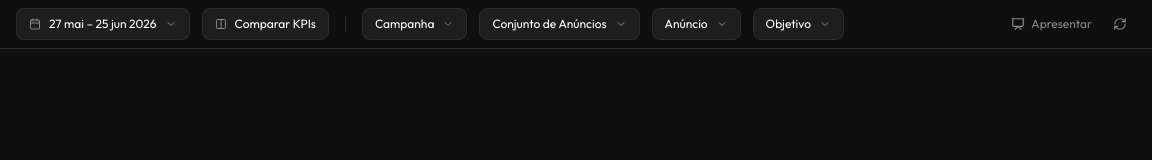
it: FilterBar › Meta Ads lista campanhas reais publicadas no contexto
The width and height of the screenshot is (1152, 160).
Click the button "Campanha" at (415,24), box [362, 8, 467, 40]
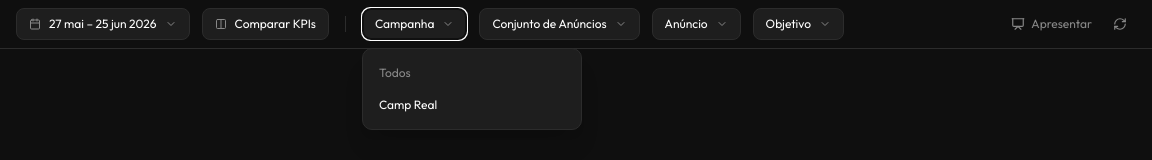
Expected: the button "Camp Real" is shown, [363, 89, 581, 121]
